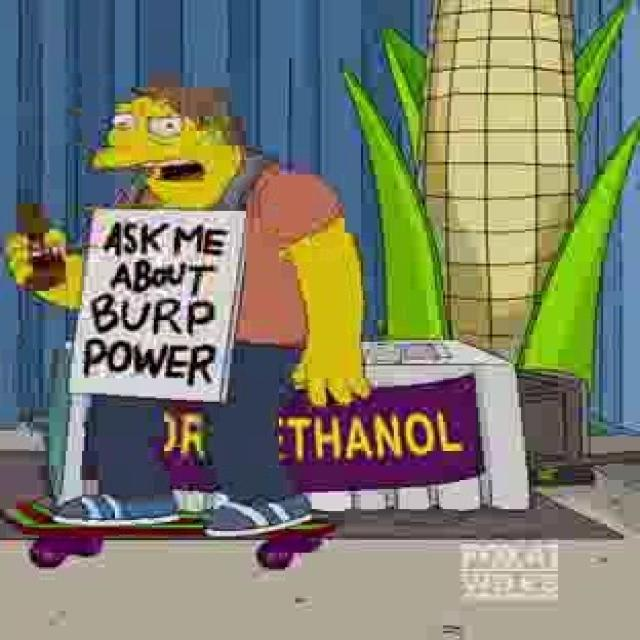Barney Gumble: (92, 82, 252, 213)
